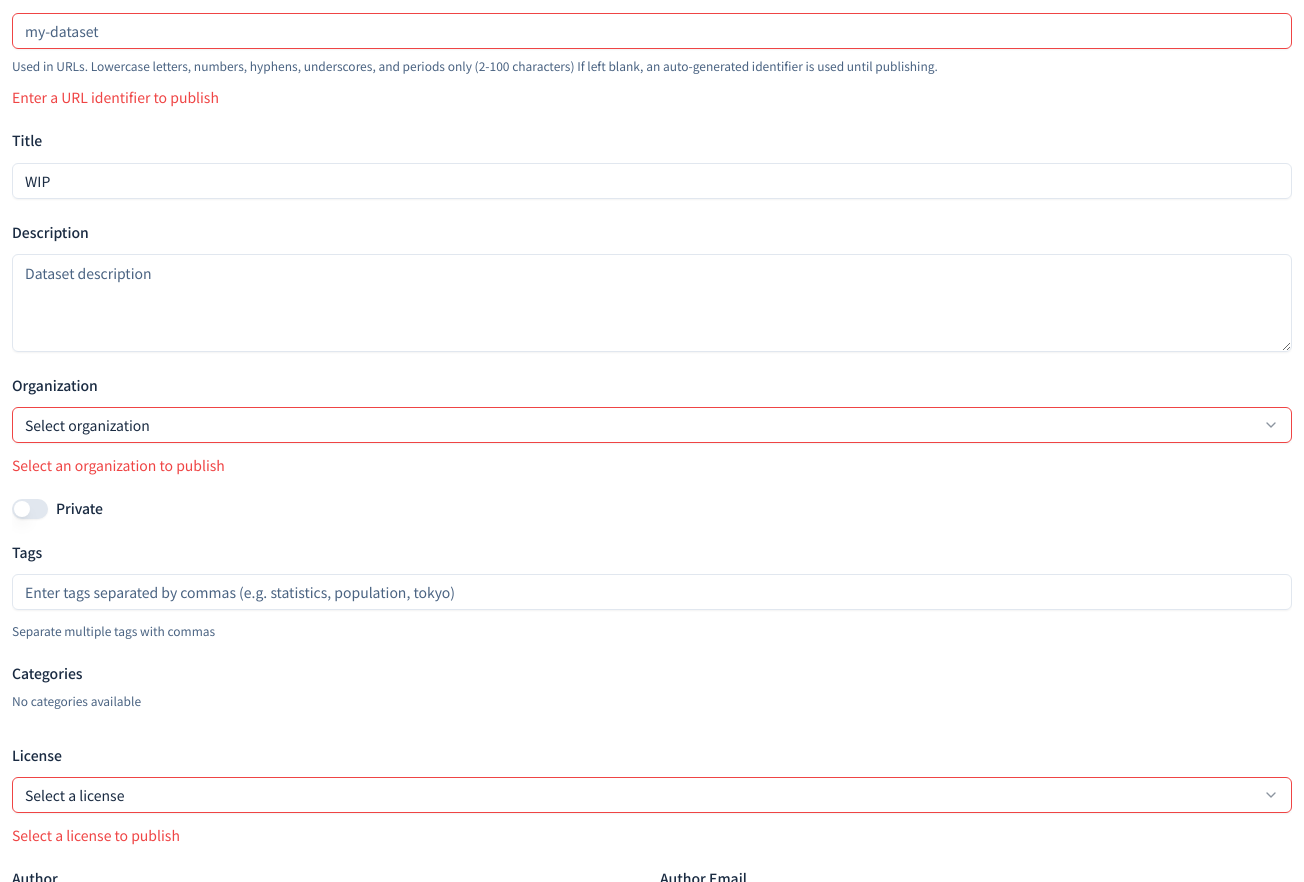
Scenario: DatasetForm (draft flows) › edit mode (draft) — dirty gating › should enable Save Draft when only tags change
Replace the text in the field labelled "Tags" with "stats" at (652, 592), box [12, 574, 1292, 610]
(page scrolled)
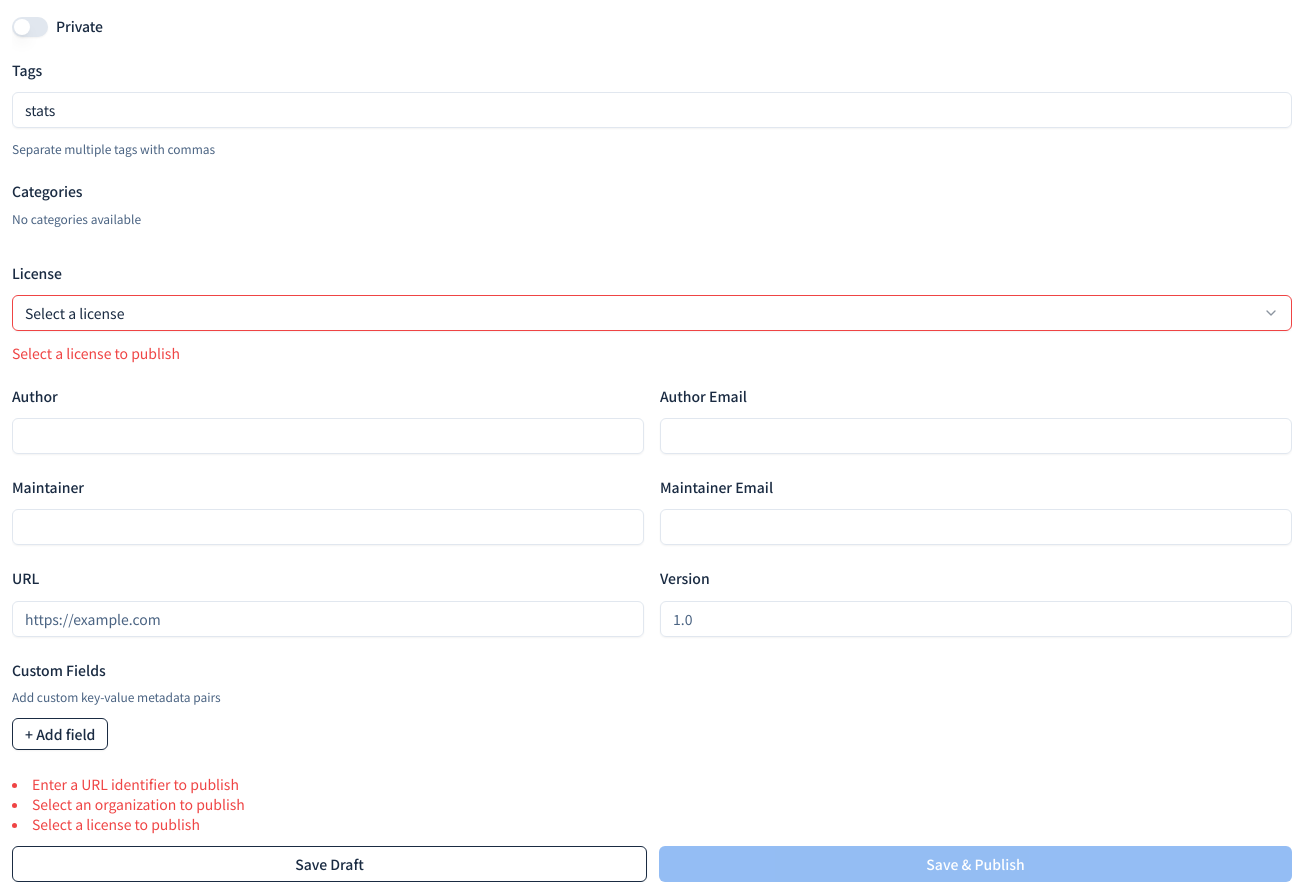
Check: the button "Save Draft" is enabled, box [12, 846, 647, 881]
